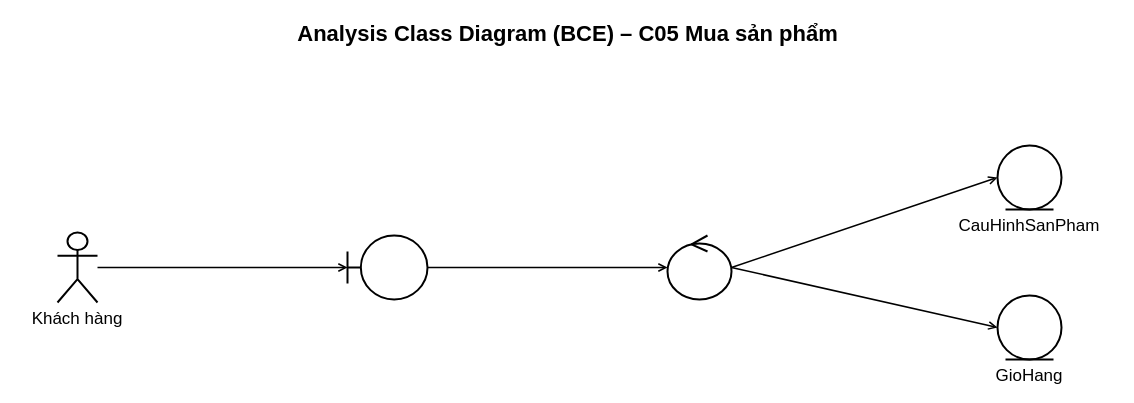
Image size: 1134x403. Some labels were removed from this diagram. The box of each missing label's shape, as (x1, y1, x2, y2) in pixels:
MuaSanPhamController: (666, 234, 732, 300)
MuaSanPhamPage: (346, 234, 428, 300)
